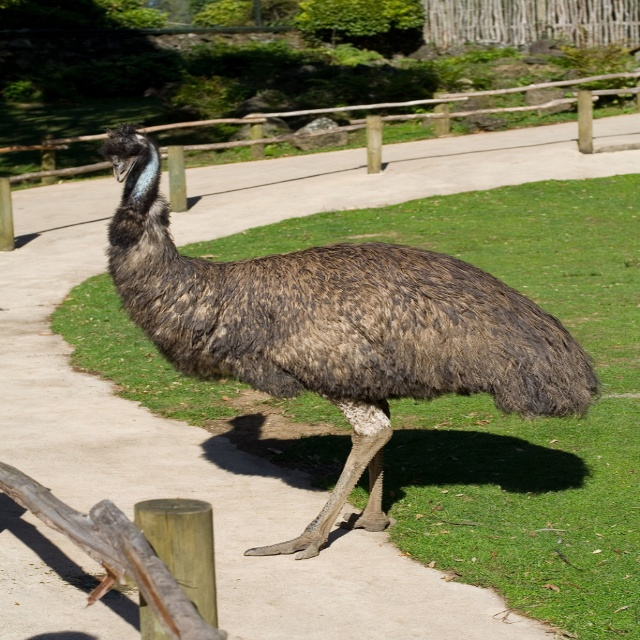Ostrich: (98, 126, 609, 560)
